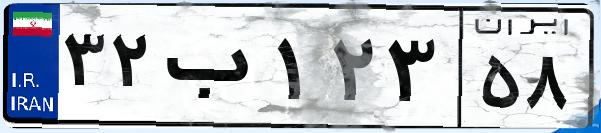1: (270, 28, 330, 110)
2: (330, 28, 385, 110), (110, 28, 158, 98)
3: (385, 28, 445, 110), (57, 26, 110, 100)
5: (475, 38, 525, 113)
8: (525, 38, 570, 115)
ب: (158, 20, 270, 120)
